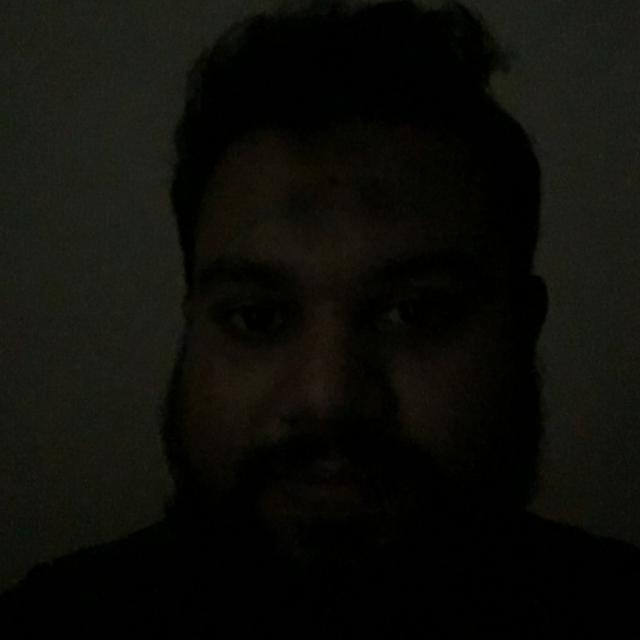Natural: (85, 154, 570, 608)
